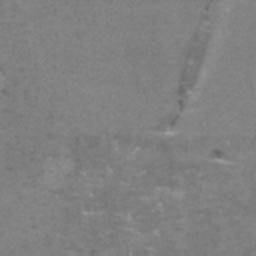Finishing roll printing: (165, 0, 223, 131)
